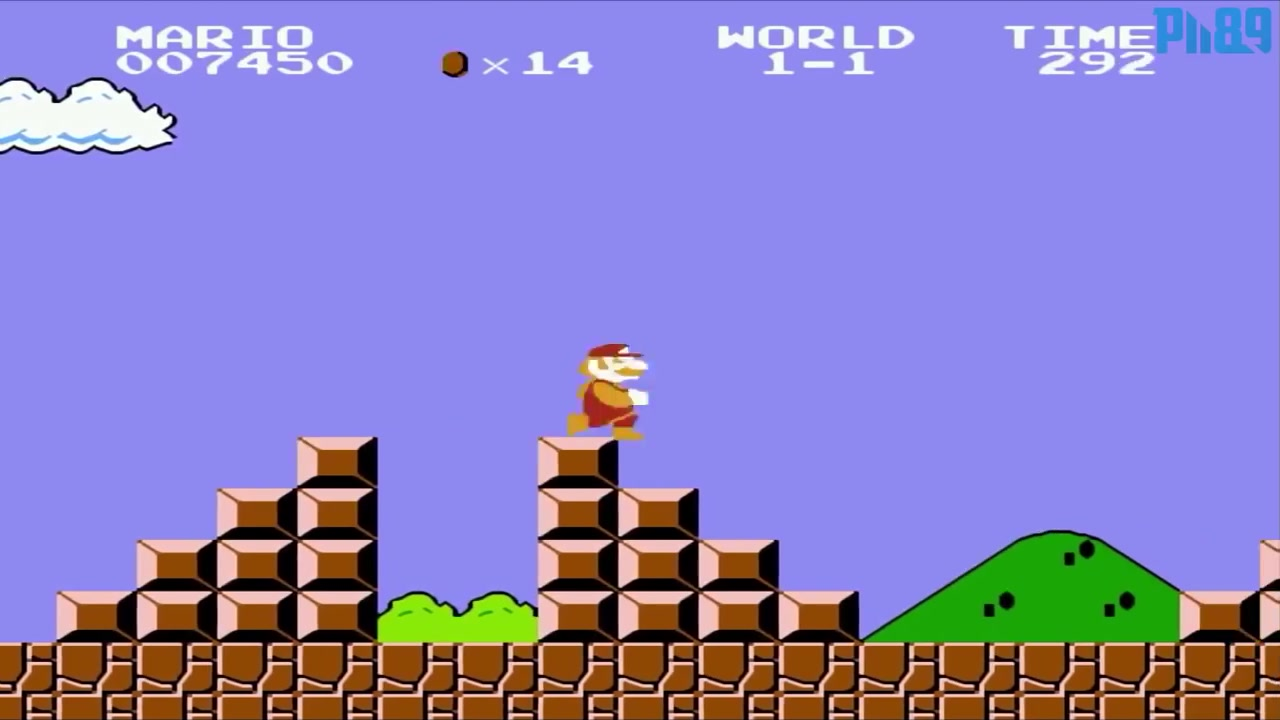mario: (559, 334, 658, 451)
